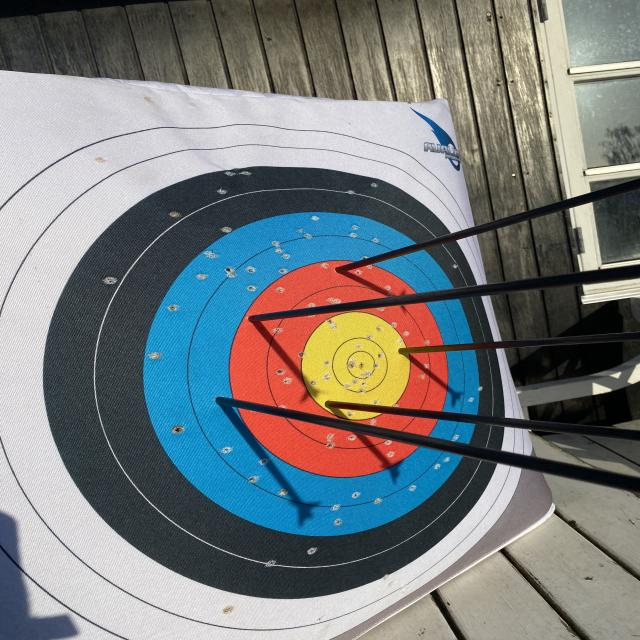Arrow_Blue: (204, 390, 236, 415)
Arrow_Red: (325, 256, 372, 290), (237, 293, 271, 332)
Arrow_Yellow: (393, 339, 418, 369), (320, 391, 340, 415)
